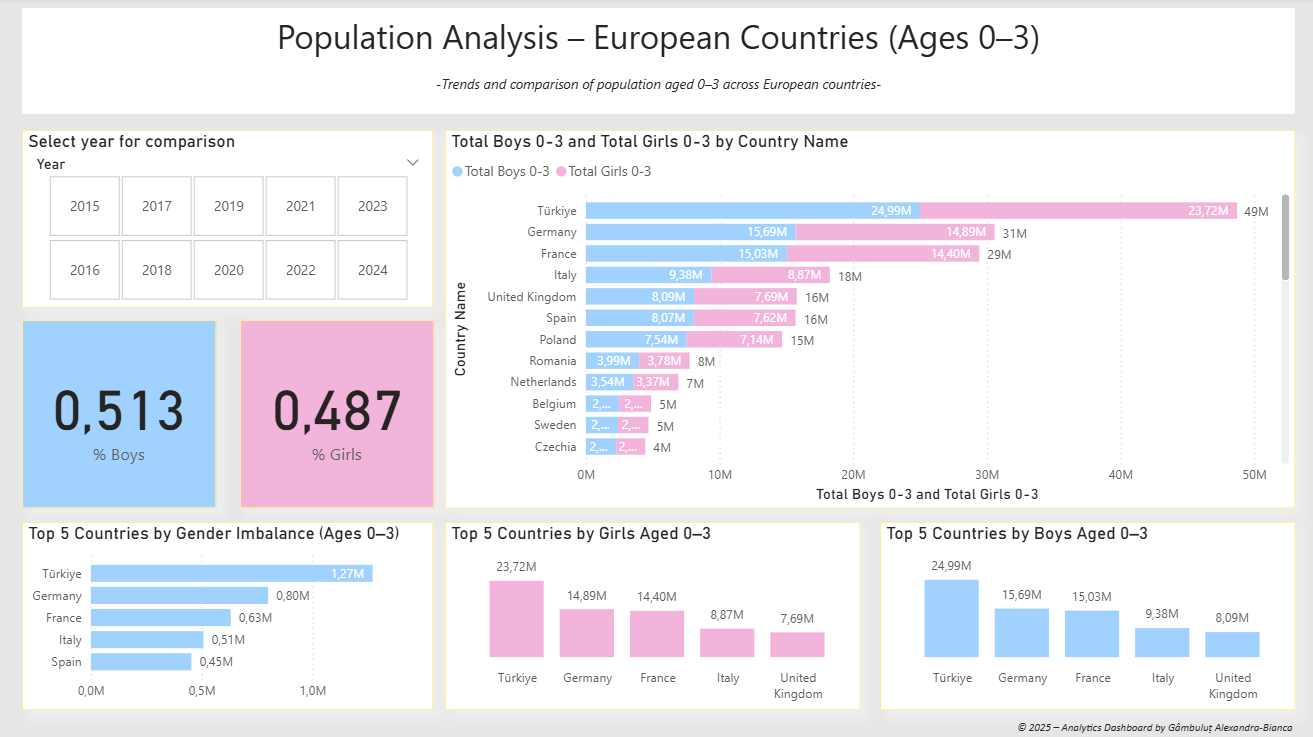

Layout of this report page (visuals, bound fields, positions):
{"tool":"powerbi","page":{"name":"Page 3","canvas":[1280,720],"ordinal":2},"visuals":[{"type":"clusteredColumnChart","title":"Top 5 Countries by Girls Aged 0–3","fields":{"Y":["Sum(0-3 years FEMALE.Value)"],"Category":["0-3 years FEMALE.Country Name"]},"box":[433.8,510.1,404.4,183.4],"z":0},{"type":"textbox","box":[22.8,9.4,1238.5,103.1],"z":1000},{"type":"clusteredColumnChart","title":"Top 5 Countries by Boys Aged 0–3","fields":{"Y":["Sum(0 - 3 YEARS MAN.Value)"],"Category":["0 - 3 YEARS MAN.Country Name"]},"box":[856.9,510.1,404.4,183.4],"z":2000},{"type":"barChart","fields":{"Y":["Dim Country.Total Men 0-3","Dim Country.Total Women 0-3"],"Category":["Dim Country.Country Name"]},"box":[433.8,128.5,827.4,368.2],"z":3000},{"type":"textbox","box":[985.4,693.6,294.6,26.8],"z":4000},{"type":"slicer","title":"Select year for comparison","fields":{"Values":["Dim Year.Year"]},"box":[22.8,128.5,400.3,172.7],"z":5000},{"type":"barChart","title":"Top 5 Countries by Gender Imbalance (Ages 0–3)","fields":{"Y":["Dim Country.Difference Boys vs Girls"],"Category":["Dim Country.Country Name"]},"box":[22.8,510.1,400.3,183.4],"z":6000},{"type":"card","fields":{"Values":["Dim Country.% Boys"]},"box":[22.8,313.3,188.8,183.4],"z":7000},{"type":"card","fields":{"Values":["Dim Country.% Girls"]},"box":[234.3,313.3,188.8,183.4],"z":8000}]}

Visuals, with their boxes in screenshot pixels (x1, y1, x2, y2), scaled from the page's 1280x720 canvas onto the 1313x737 screenshot:
"Top 5 Countries by Girls Aged 0–3" clusteredColumnChart: select_region(445, 522, 860, 710)
textbox: select_region(23, 10, 1294, 115)
"Top 5 Countries by Boys Aged 0–3" clusteredColumnChart: select_region(879, 522, 1294, 710)
barChart - Dim Country.Total Men 0-3 x Dim Country.Total Women 0-3: select_region(445, 132, 1294, 508)
textbox: select_region(1011, 710, 1312, 736)
"Select year for comparison" slicer: select_region(23, 132, 434, 308)
"Top 5 Countries by Gender Imbalance (Ages 0–3)" barChart: select_region(23, 522, 434, 710)
card - Dim Country.% Boys: select_region(23, 321, 217, 508)
card - Dim Country.% Girls: select_region(240, 321, 434, 508)
